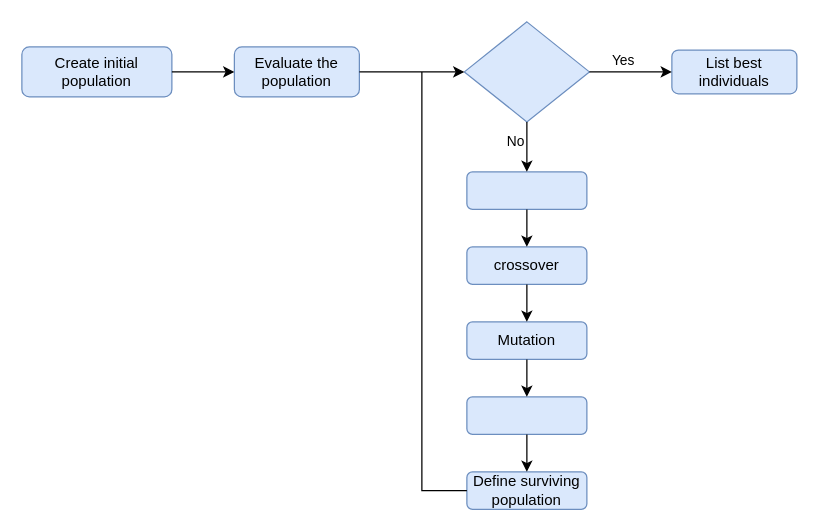
The diagram is 819 pixels wide and 531 high, and some of its shapes have lost their labels. The shapes that lost their labels are listed below. From the top down, each one's centre as x and y in pixels, then its label:
At (x=526, y=71): "Stopping criterion".
At (x=526, y=190): "Select Parents".
At (x=526, y=415): "Evaluate Population".
